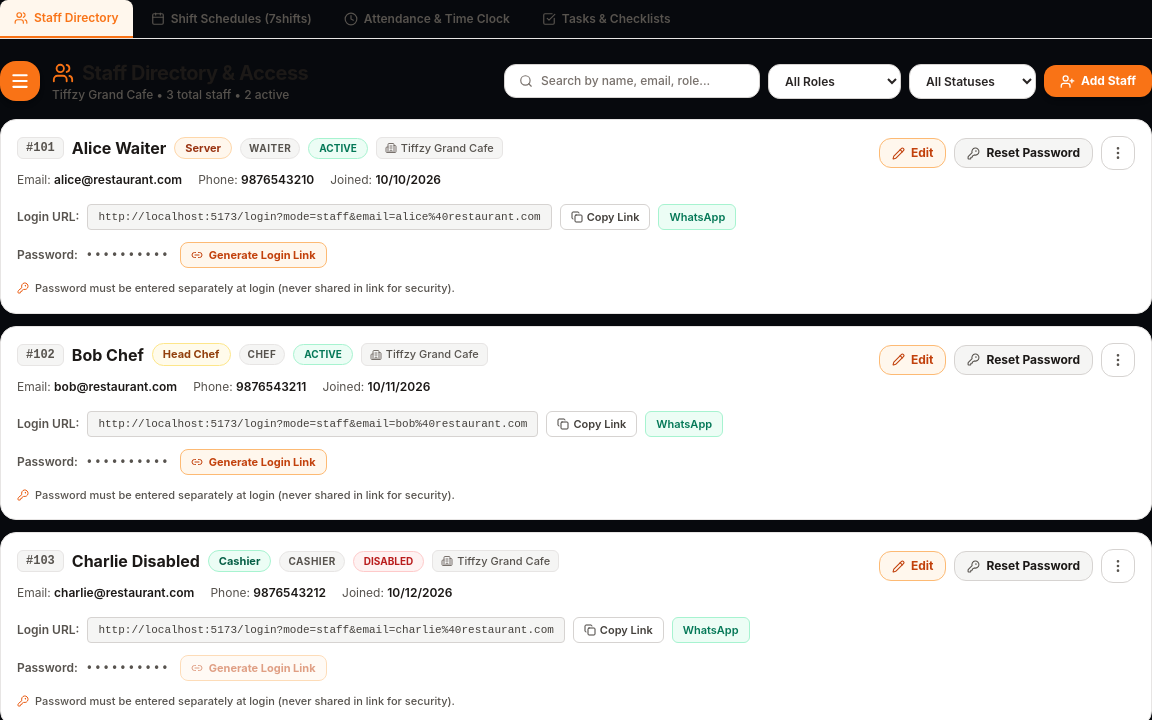
Phase 2 — OwnerStaff Management Component › 7. Deactivation opens confirmation modal before terminating sessions
The image size is (1152, 720).
Expected: the text "Alice Waiter" is shown, [72, 136, 166, 160]
Click the button named "Open staff actions" in the row of "Server" at (1118, 153), box [1101, 136, 1135, 170]
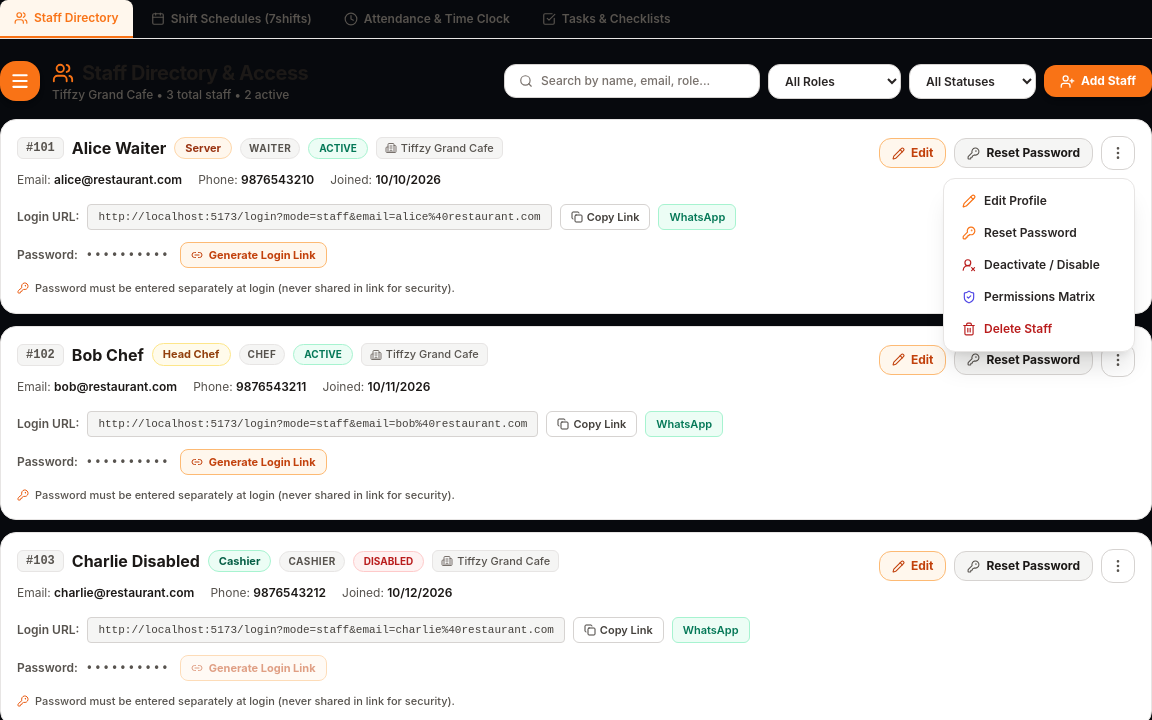
Click the button "Deactivate / Disable" at (1039, 265), box [950, 249, 1128, 281]
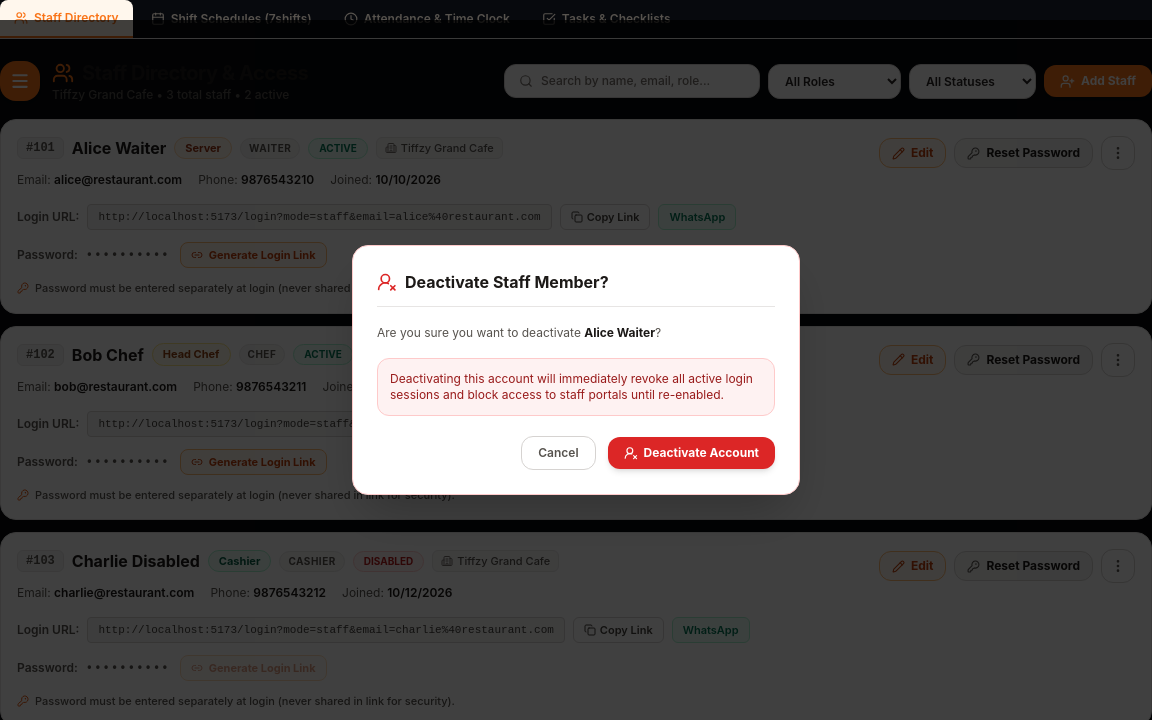
Expected: the heading "Deactivate Staff Member?" is shown, [405, 270, 609, 294]
Expected: the text "revoke all active login sessions" is shown, [390, 371, 753, 402]
